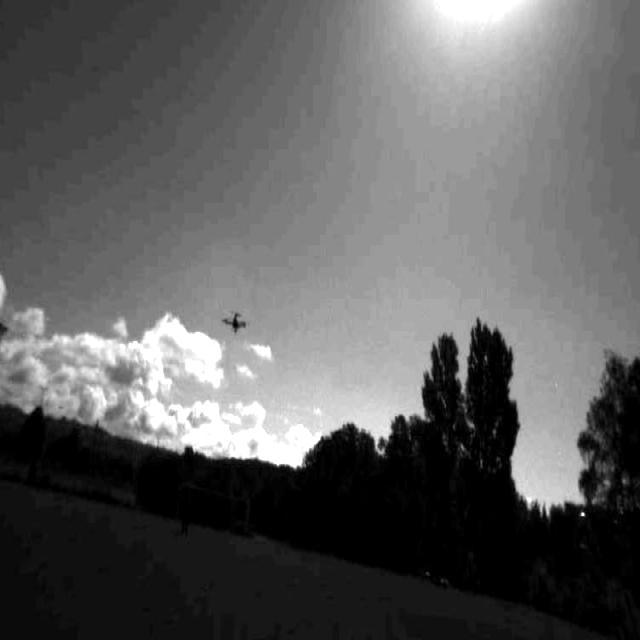drone: (221, 302, 245, 340)
